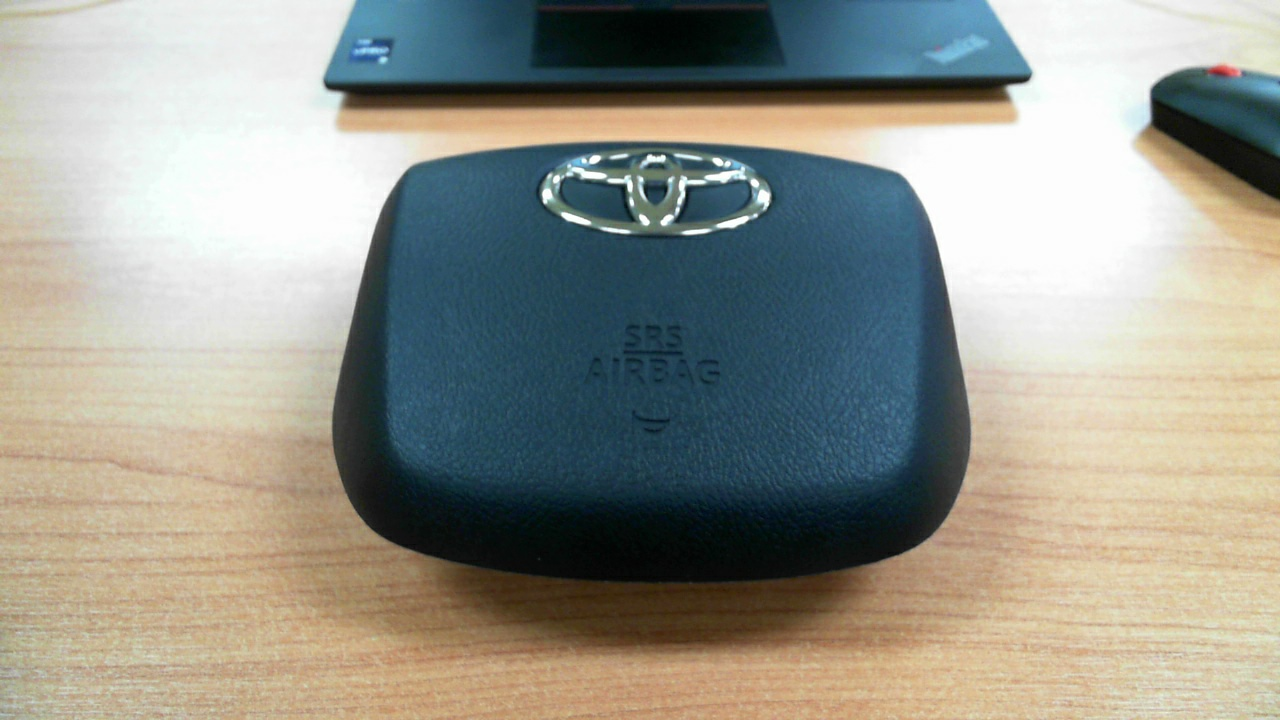Airbag: (313, 153, 966, 622)
